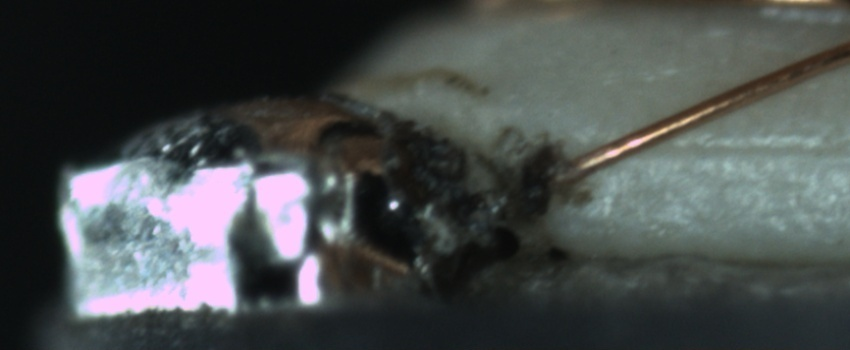DL: (639, 110, 848, 186)
